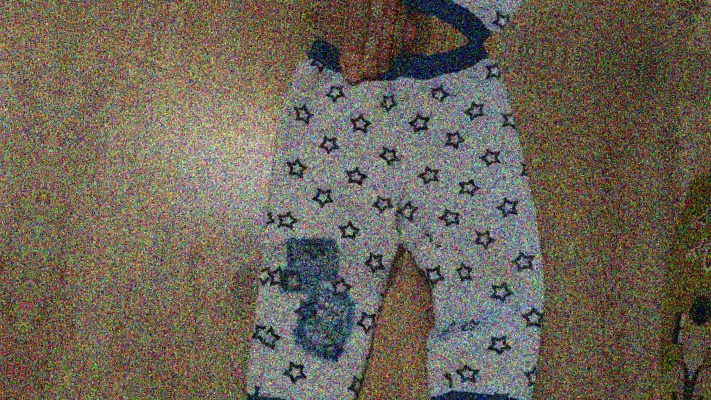Pants: (199, 26, 587, 400), (262, 0, 649, 42)
